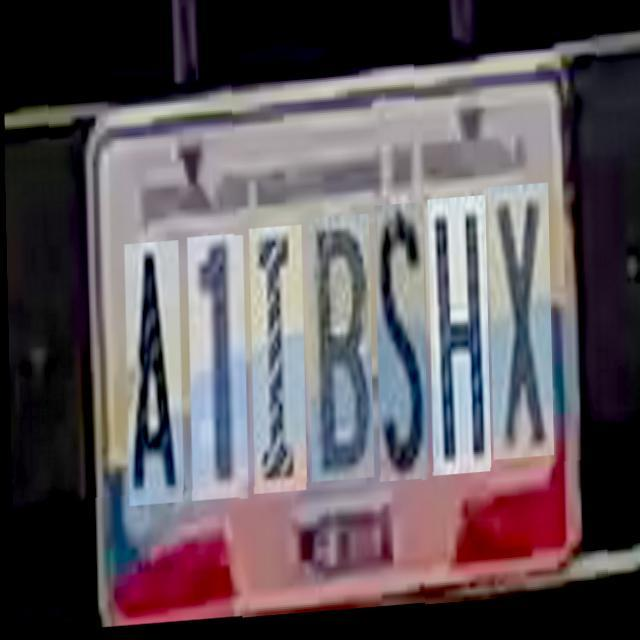1: (186, 237, 246, 504)
A: (122, 243, 182, 508)
B: (305, 218, 372, 485)
H: (426, 200, 488, 480)
I: (248, 228, 304, 496)
S: (374, 208, 426, 487)
X: (487, 188, 552, 464)
